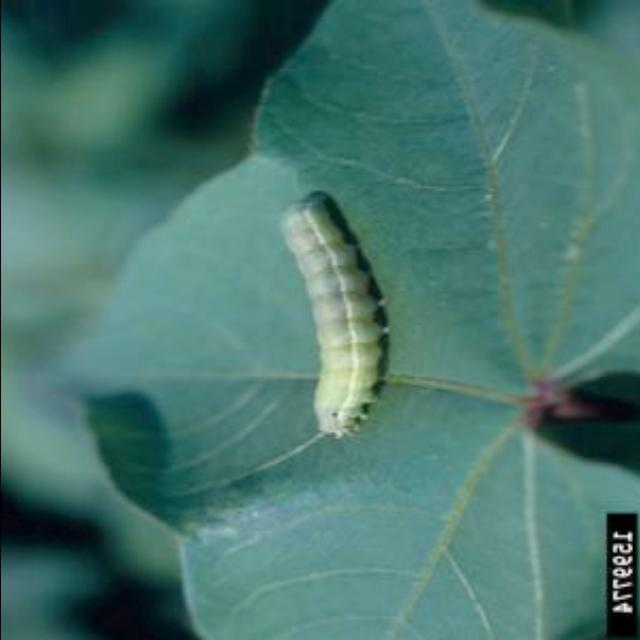Beet armyworm: (234, 168, 408, 468)
